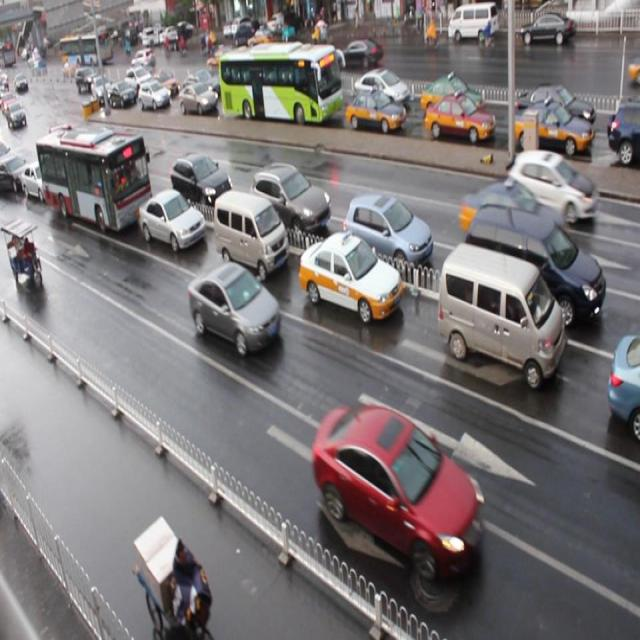car: (312, 400, 482, 579), (298, 228, 402, 322), (462, 179, 571, 262), (187, 263, 282, 358), (342, 194, 433, 278), (512, 150, 591, 228), (250, 162, 330, 234), (513, 99, 592, 157), (137, 186, 205, 251), (171, 153, 234, 212), (424, 92, 495, 142), (607, 331, 640, 437), (516, 86, 592, 130), (424, 74, 488, 120), (344, 85, 404, 133), (353, 68, 409, 110), (607, 98, 640, 160), (21, 158, 58, 202), (102, 142, 139, 183), (178, 82, 219, 116), (263, 68, 301, 103), (1, 153, 31, 193), (54, 131, 88, 164), (139, 78, 170, 112), (191, 69, 225, 99), (150, 69, 180, 97), (126, 64, 153, 92), (107, 81, 135, 107)
truck: (438, 240, 564, 388), (464, 200, 604, 329), (212, 187, 288, 279)
van: (36, 126, 154, 234), (216, 43, 340, 123)
